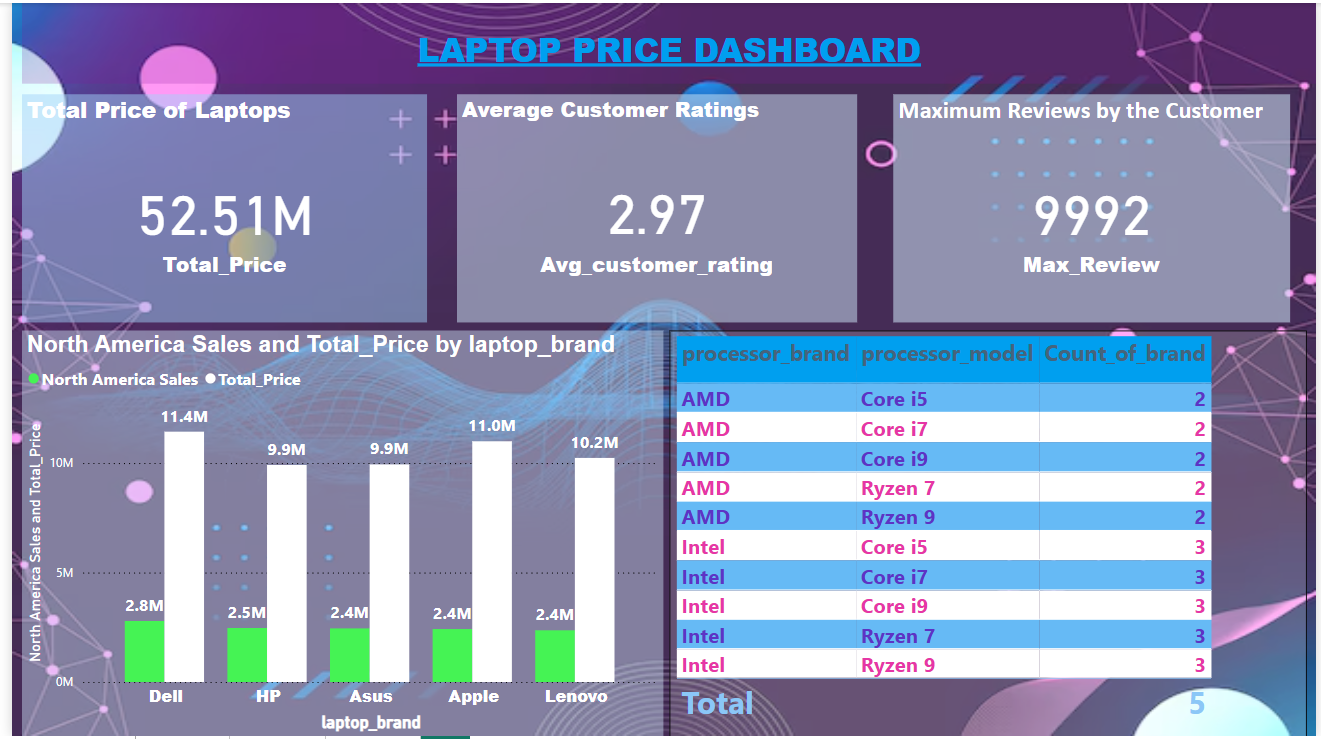

Layout of this report page (visuals, bound fields, positions):
{"tool":"powerbi","page":{"name":"Page 1","canvas":[1280,720],"ordinal":0},"visuals":[{"type":"textbox","box":[9.6,0,1270.7,79.6],"z":0},{"type":"card","title":"Total Price of Laptops","fields":{"Values":["Laptop_Price.Average_Price"]},"box":[9.6,89.2,397.9,223.7],"z":1000},{"type":"card","title":"Average Customer Ratings","fields":{"Values":["Laptop_Price.Avg_customer_rating"]},"box":[436.4,89.2,392.5,223.7],"z":2000},{"type":"card","title":"Maximum Reviews by the Customer","fields":{"Values":["Laptop_Price.Max_Review"]},"box":[864.5,89.2,389.7,223.7],"z":3000},{"type":"clusteredColumnChart","fields":{"Y":["Laptop_Price.North America Sales","Laptop_Price.Total_Price"],"Category":["Laptop_Price.laptop_brand"]},"box":[9.6,321.8,629.9,398.5],"z":4000},{"type":"tableEx","fields":{"Values":["Laptop_Price.processor_brand","Laptop_Price.processor_model","Laptop_Price.Count_of_brand"]},"box":[644.9,321.8,625.8,399],"z":5000}]}

Visuals, with their boxes in screenshot pixels (x1, y1, x2, y2), scaled from the page's 1280x720 canvas onto the 1321x739 screenshot:
textbox: (10, 0, 1320, 82)
"Total Price of Laptops" card: (10, 92, 421, 321)
"Average Customer Ratings" card: (450, 92, 855, 321)
"Maximum Reviews by the Customer" card: (892, 92, 1294, 321)
clusteredColumnChart - Laptop_Price.North America Sales x Laptop_Price.Total_Price: (10, 330, 660, 738)
tableEx - Laptop_Price.processor_brand x Laptop_Price.processor_model: (666, 330, 1311, 738)
